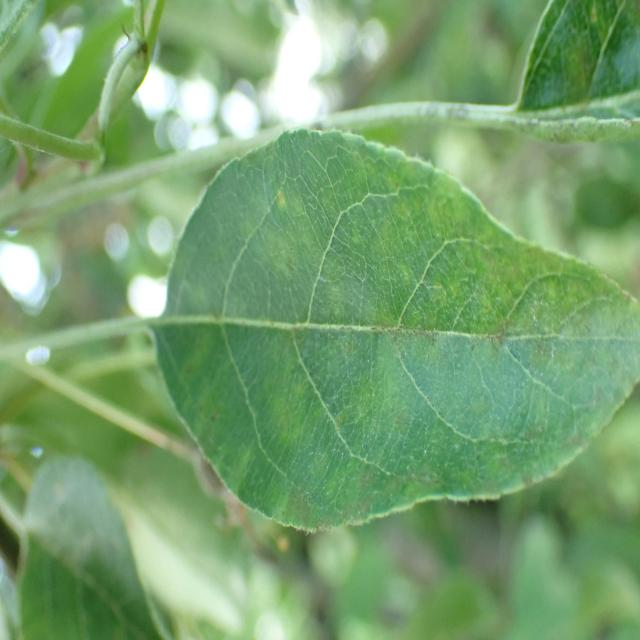scab: (222, 173, 640, 521)
